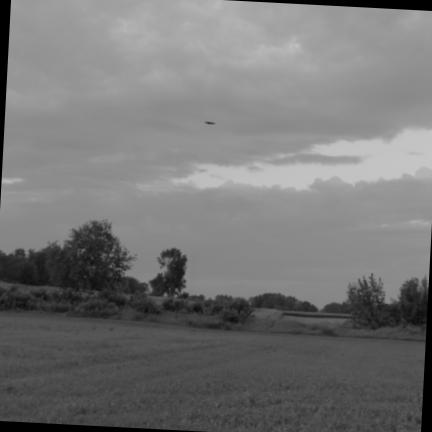Shahed: (205, 121, 215, 125)
